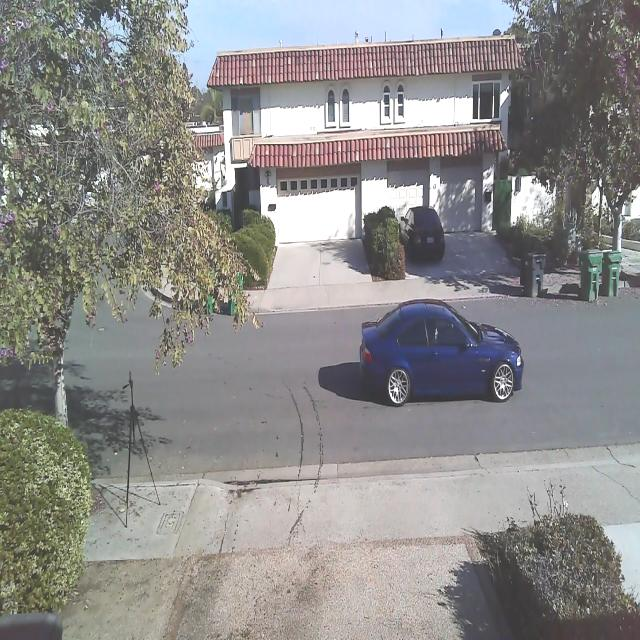Carbeetle: (350, 293, 528, 410)
Civilian: (397, 206, 445, 264)
